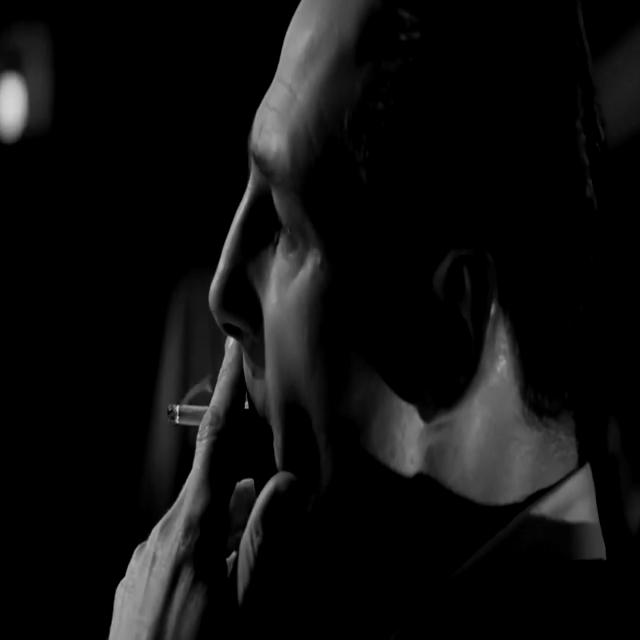Smooking: (159, 386, 203, 431)
